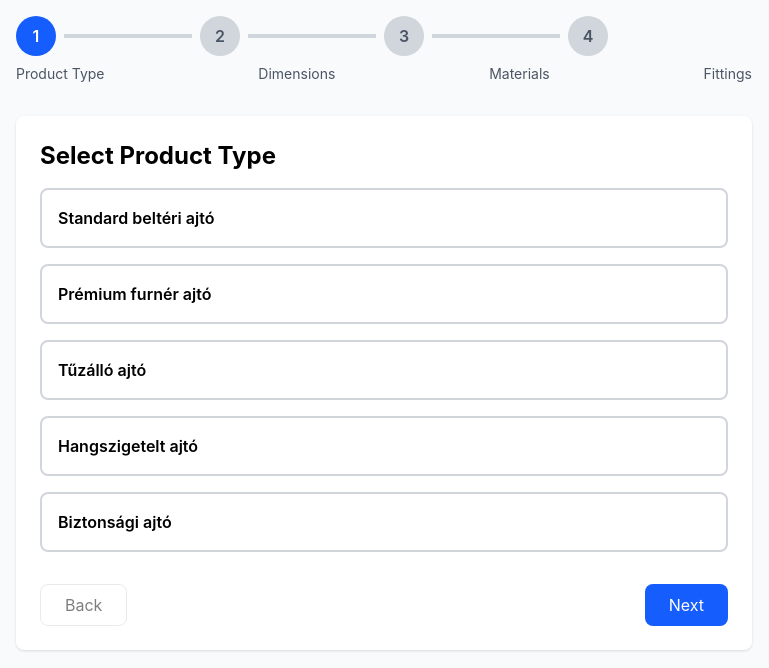
Test case: ProductConfiguratorWizard › allows navigation to step 2 after selecting product type
Note: Select a product type
Click the button "Standard beltéri ajtó". click: (136, 218)
box: left=40, top=188, right=728, bottom=248
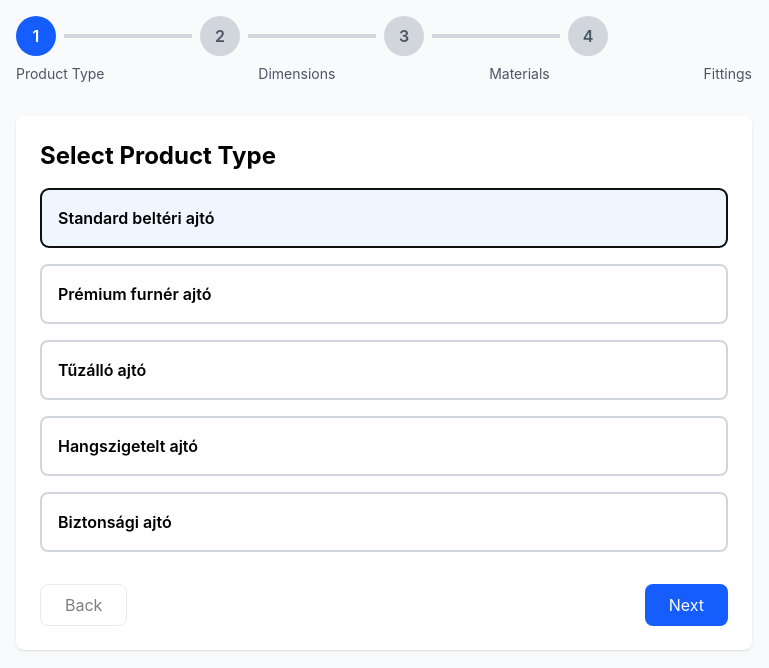
Note: Click Next
Click the button "Next". click: (686, 605)
box: left=645, top=584, right=728, bottom=626
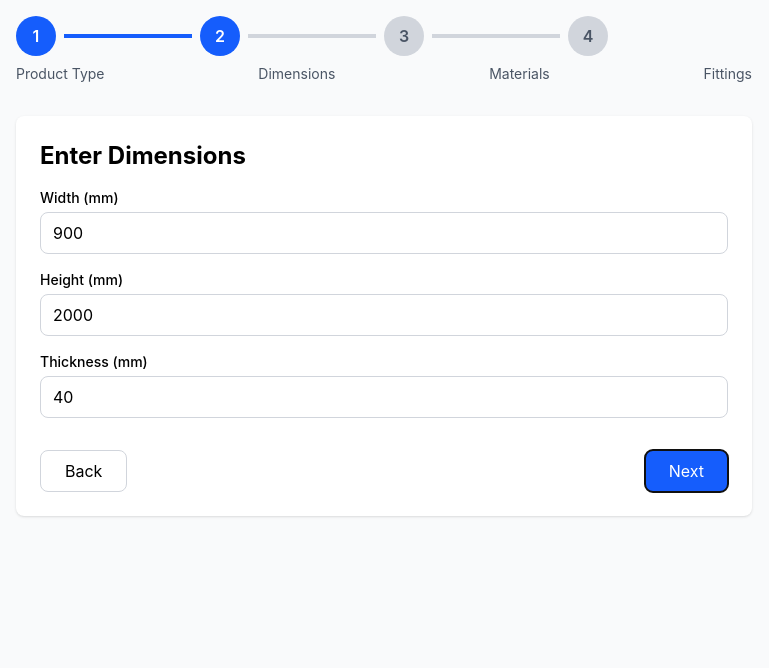
Result: the heading "Enter Dimensions" is shown at left=40, top=141, right=246, bottom=170
Result: the number field labelled "Width (mm)" is shown at left=40, top=212, right=728, bottom=254
Result: the number field labelled "Height (mm)" is shown at left=40, top=294, right=728, bottom=336
